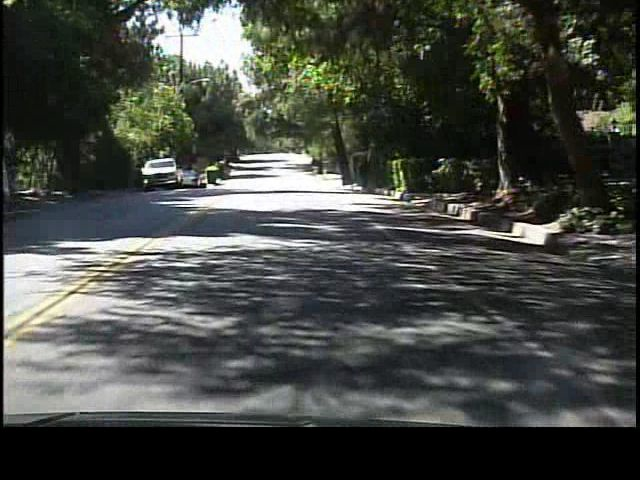person: (356, 154, 374, 195)
